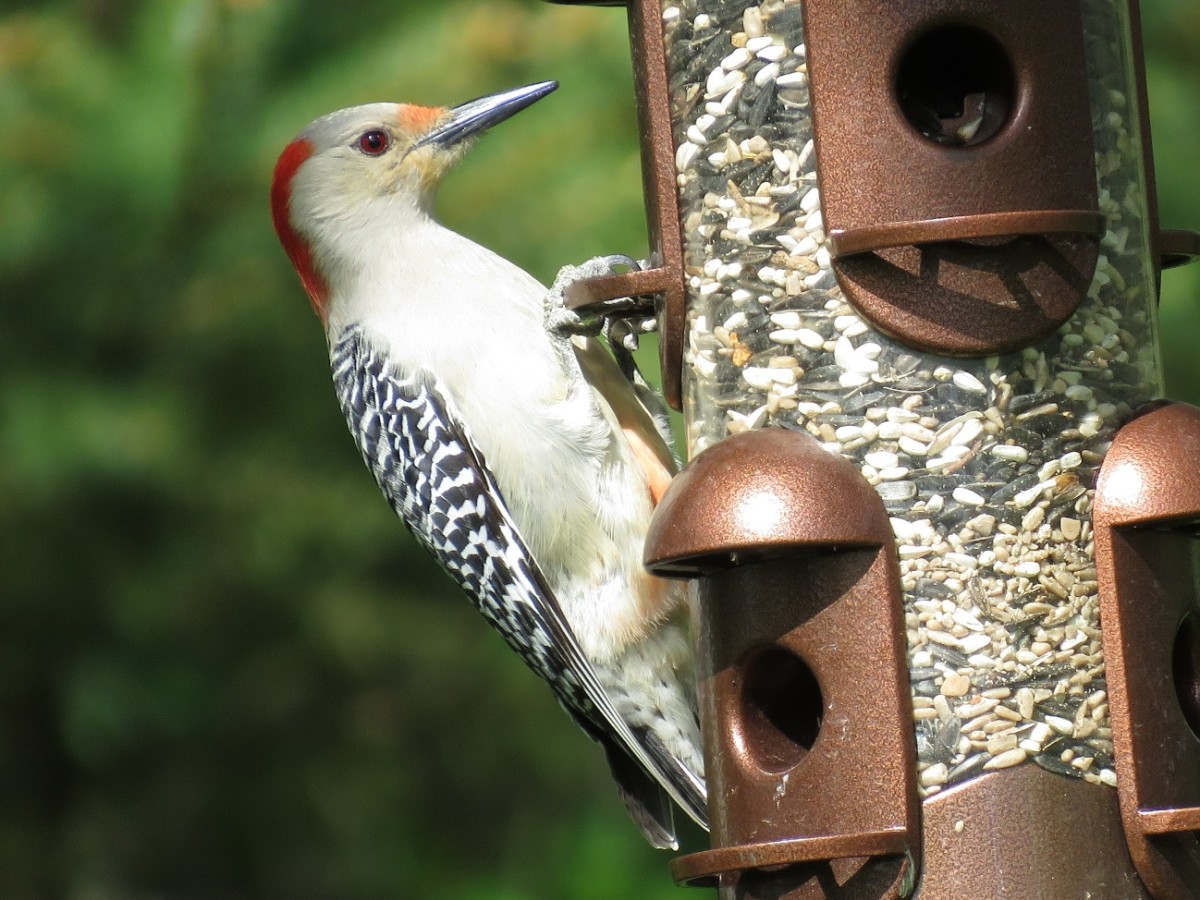bird: (236, 62, 813, 881)
